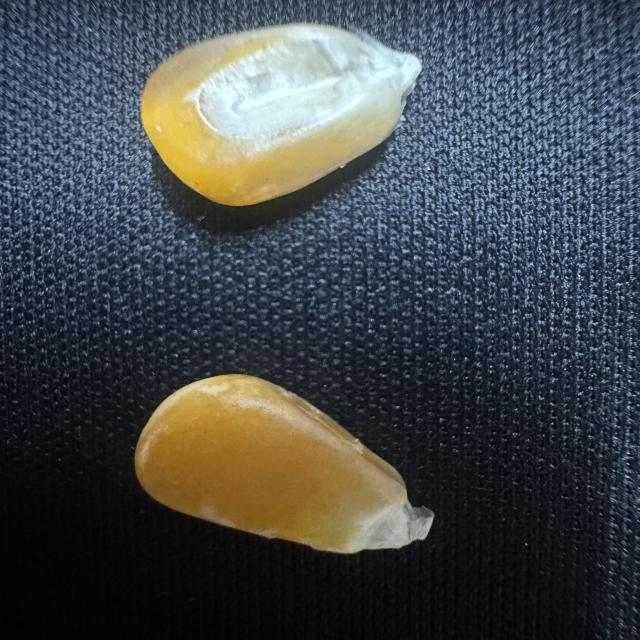Good-Seed: (117, 370, 448, 564), (132, 21, 428, 215)
